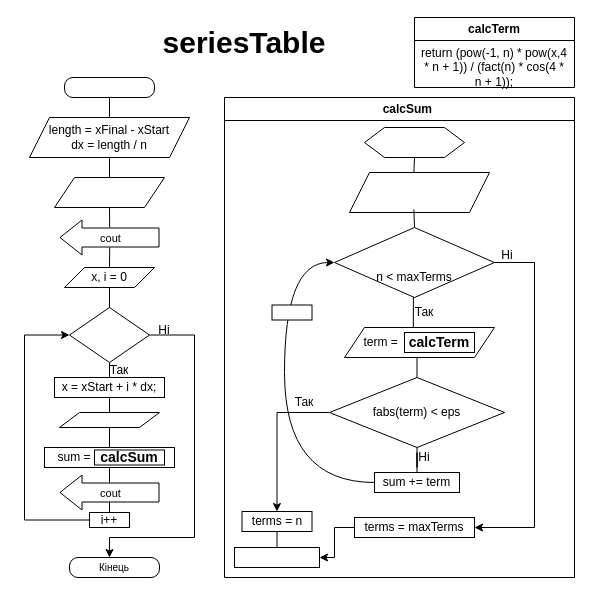
The diagram is 592 pixels wide and 595 high, and some of its shapes have lost their labels. Each missing label, with the centre of its shape:
const cw = 15: the point at 109,192
i <= n: the point at 109,334
maxTerms = 200, sum = 0, n = 0: the point at 419,192
n++: the point at 291,312
n, x, eps, &terms: the point at 414,142
return sum;: the point at 277,557
terms = 0: the point at 109,420
Початок: the point at 109,87
